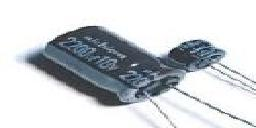Electrolytic-Capacitor: (41, 24, 183, 125), (170, 39, 256, 88)
